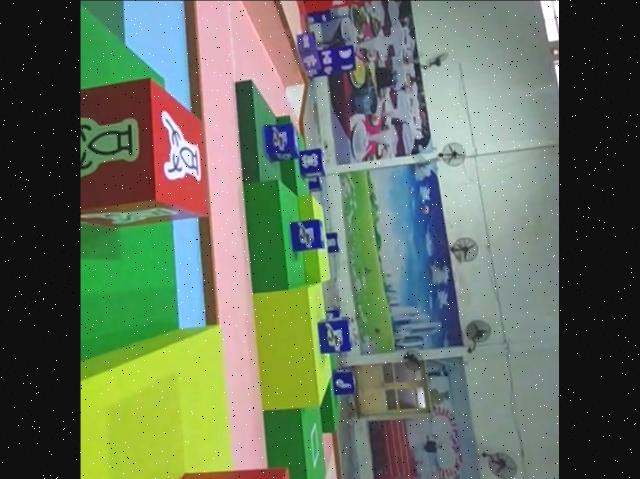R2 Fake: (118, 452, 305, 479)
R2 Real: (81, 71, 213, 229)
